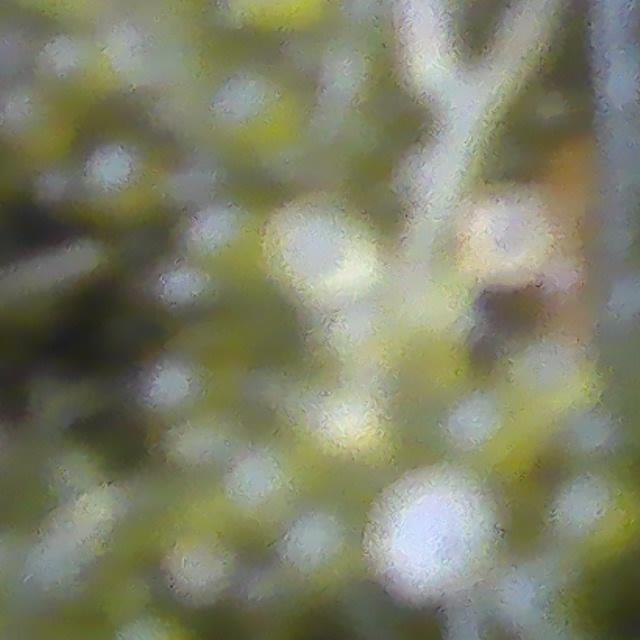SeaGrape: (391, 479, 491, 583), (270, 199, 370, 303), (458, 186, 558, 290), (550, 472, 640, 567), (221, 445, 310, 536), (284, 502, 370, 593), (167, 531, 238, 605)
